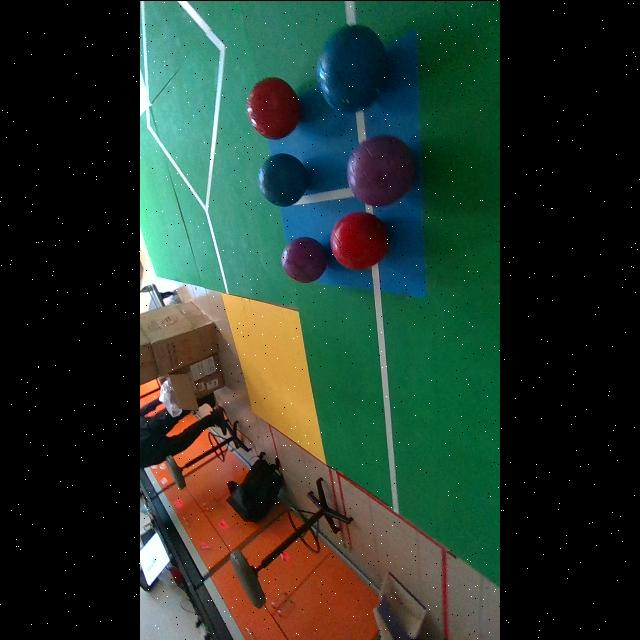B: (318, 23, 388, 113), (259, 154, 307, 204)
P: (347, 134, 416, 205), (281, 236, 328, 282)
R: (330, 211, 389, 269), (247, 76, 300, 138)
